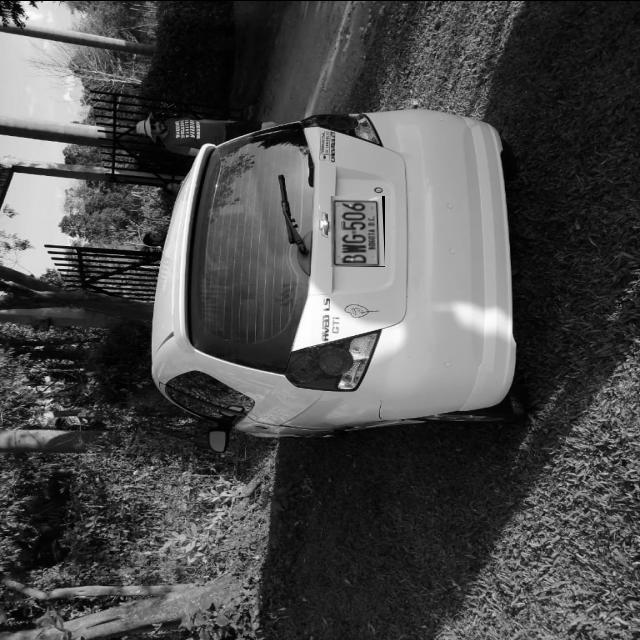plate: (329, 195, 384, 264)
